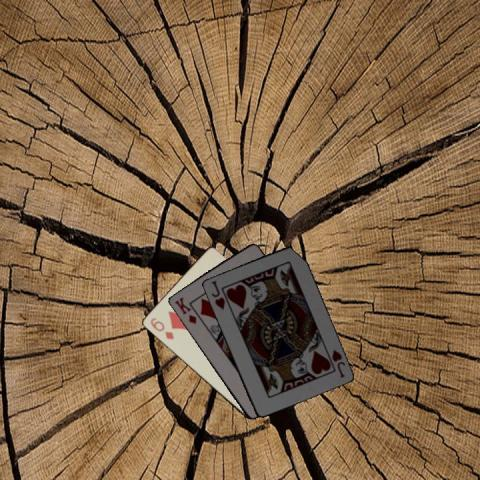6d: (148, 314, 176, 340)
Jh: (208, 277, 226, 311), (328, 347, 346, 379)
Kd: (172, 294, 198, 325)
